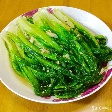youmaicai: (3, 7, 109, 97)
